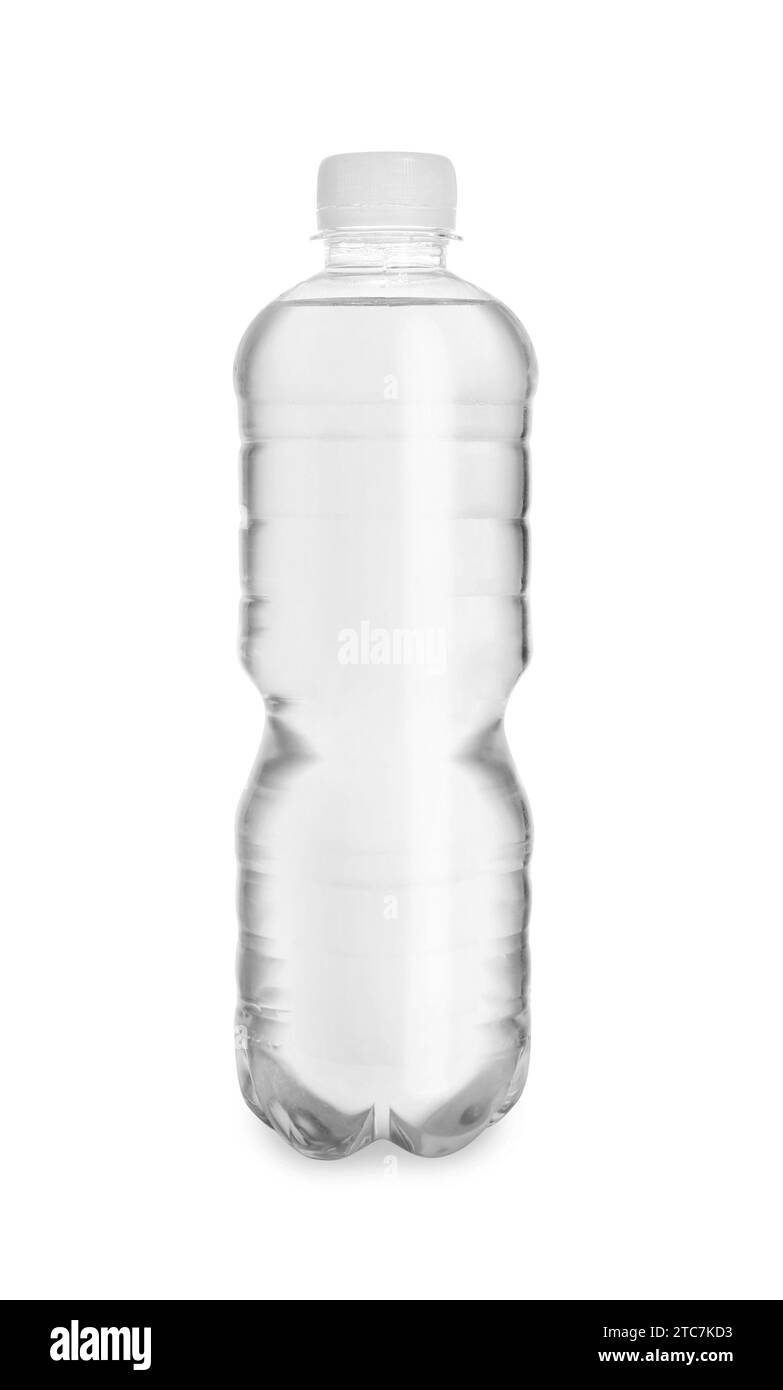bottle: (203, 122, 562, 1175)
